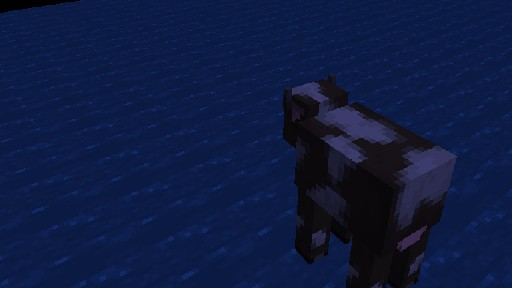cow: (282, 72, 457, 288)
